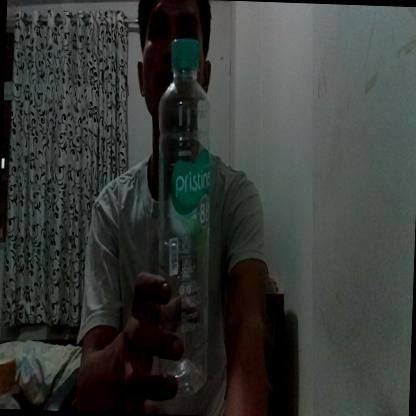plastic_bottles: (147, 35, 218, 398)
